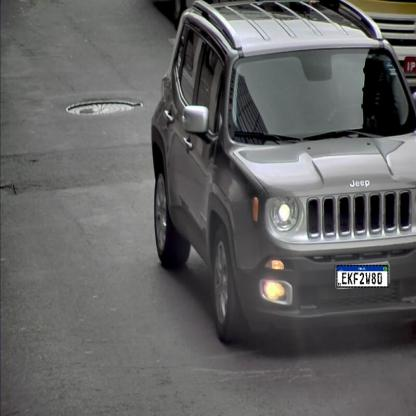PlacaM: (336, 265, 388, 288)
